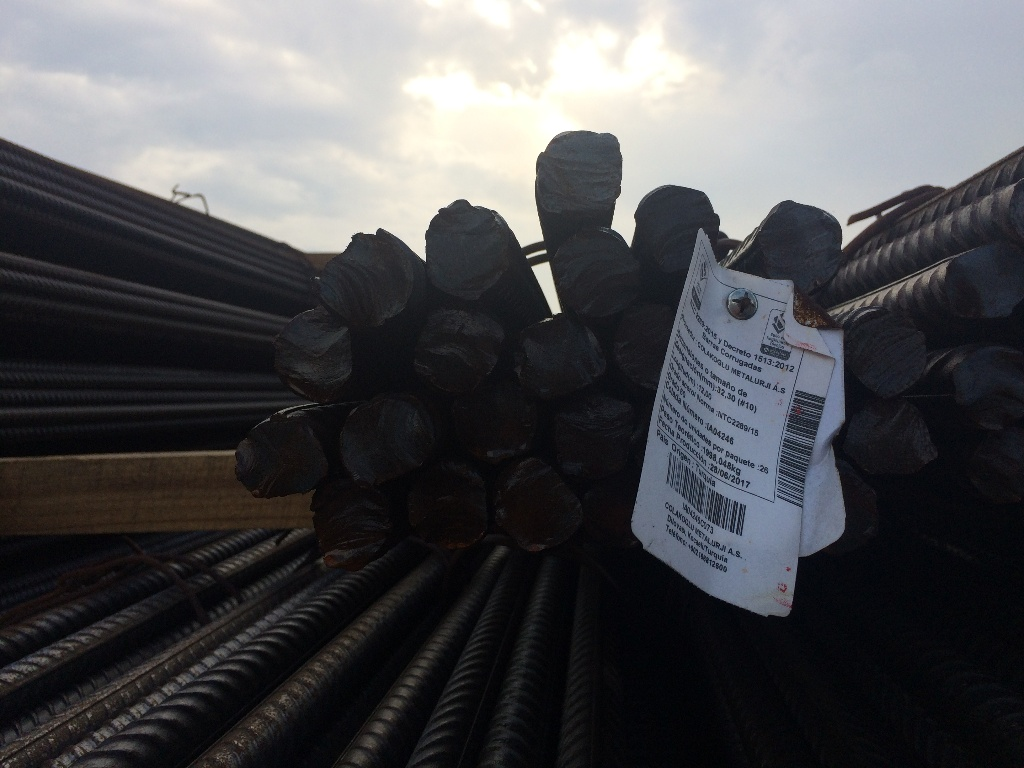dipstick: (425, 203, 504, 302), (498, 458, 582, 549), (319, 232, 407, 317), (416, 308, 506, 390), (340, 398, 425, 482), (407, 465, 489, 551), (234, 422, 326, 498), (537, 132, 621, 214), (314, 482, 389, 570), (763, 202, 842, 285), (516, 319, 602, 394), (554, 232, 634, 312), (846, 403, 936, 474), (451, 390, 538, 461), (638, 187, 715, 267), (851, 313, 924, 394), (272, 314, 349, 390), (816, 463, 878, 555), (557, 398, 629, 477), (615, 308, 678, 392), (947, 247, 1021, 316), (957, 347, 1024, 420), (584, 479, 641, 550), (969, 429, 1024, 502)
